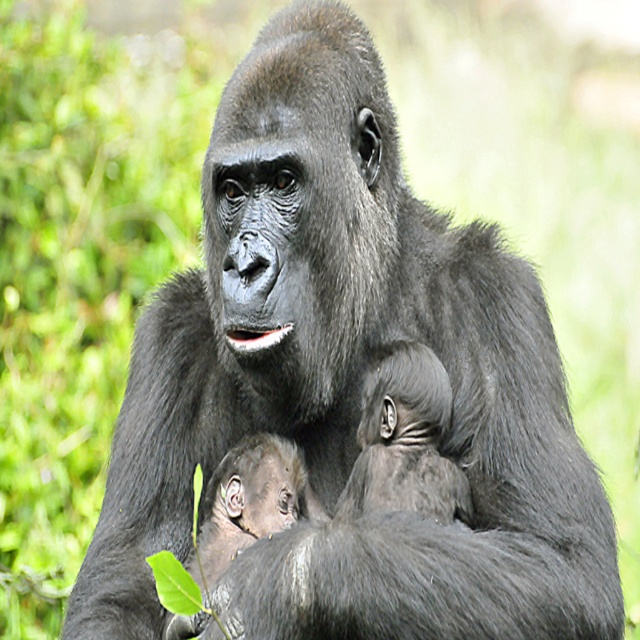Monkey: (74, 31, 640, 640)
